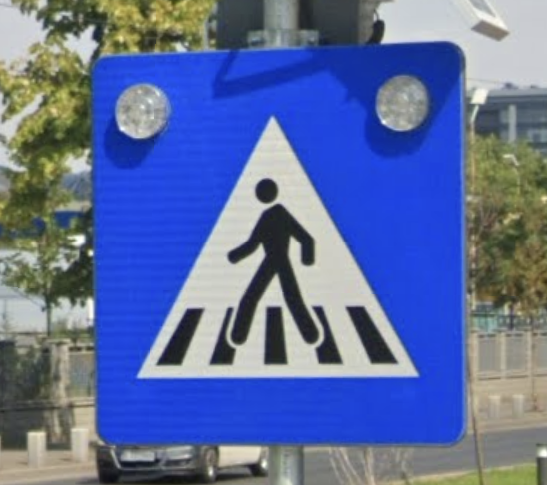trecere_pietoni: (86, 44, 473, 453)
